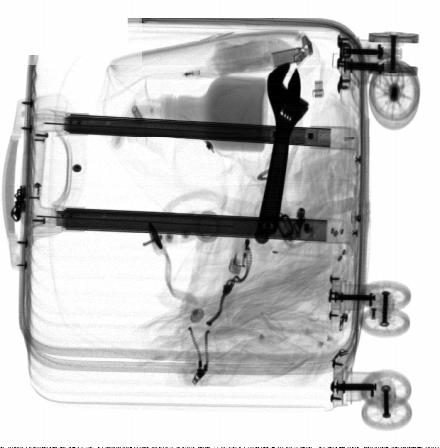Wrench: (257, 62, 310, 237)
